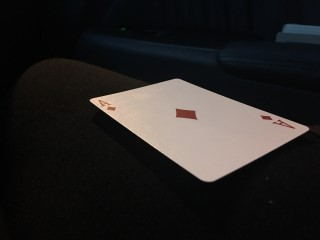AceOfDiamonds: (88, 78, 310, 183)
